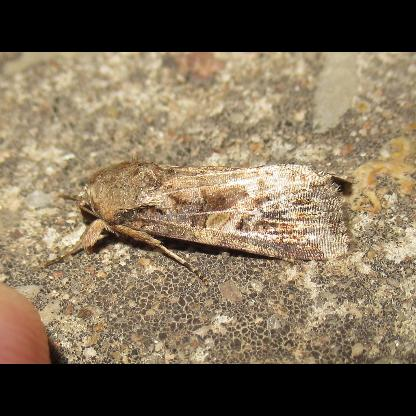Fall Armyworm Moth: (42, 154, 358, 288)
